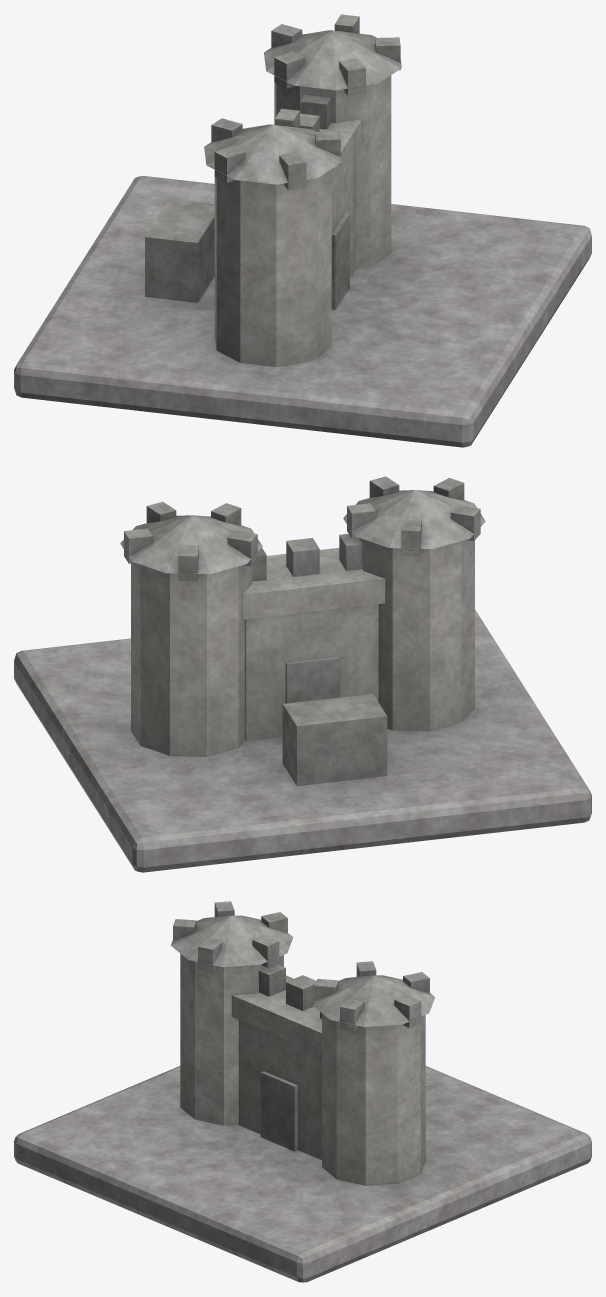
The model's file is fortress.glb.
3 renders of one model, top to bottom at view 1: azimuth 30°, elevation 25°; view 2: azimuth 150°, elevation 25°; view 3: azimuth 270°, elevation 25°, orthographic. The views are drawn at different scales.
Parts seen in each view (by area): view 1: dilek; view 2: dilek; view 3: dilek.
Boxes of the visible parts, x1,y1,x2,y2 form: dilek: [14, 14, 591, 447]; dilek: [14, 476, 591, 872]; dilek: [14, 901, 591, 1282].
Bounding box in the file's own units: 2.42 × 1.01 × 2.42.
Materials: 1 (1 with a texture image).
